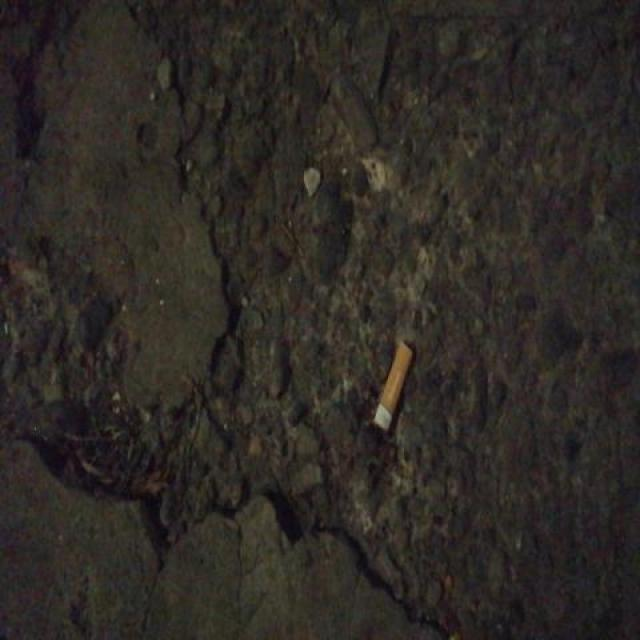non-organic waste: (371, 335, 417, 440)
